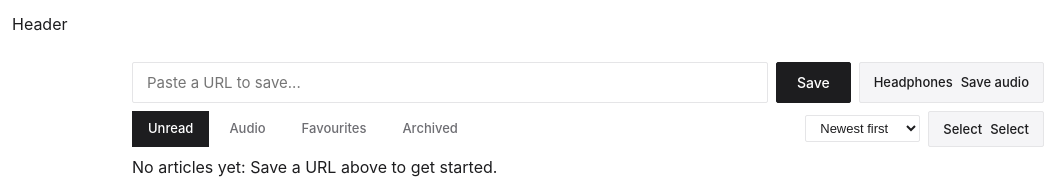
it: Library › disables both buttons while Save audio is in progress
Type "https://example.com" into the field with placeholder "Paste a URL to save..." at [450, 82], box [132,62,768,103]
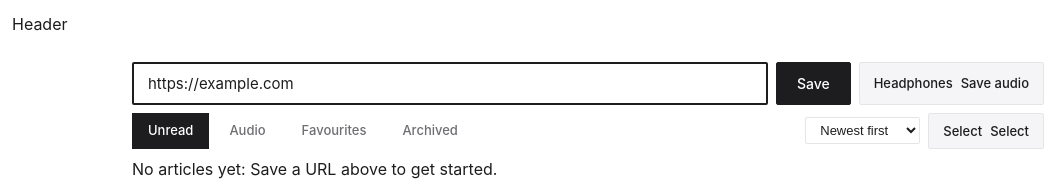
Click the button "Headphones Save audio" at [951, 83], box [859,62,1044,105]
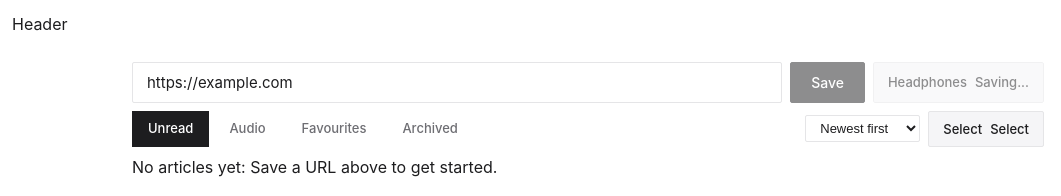
expect the button "Save" is disabled: met, box [790,62,865,103]
expect the button "Headphones Saving..." is disabled: met, box [873,62,1044,103]
